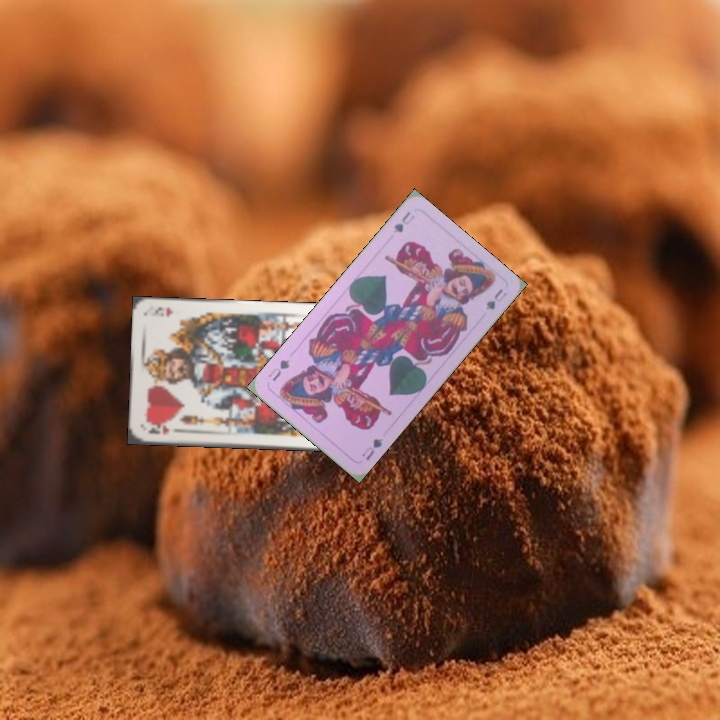GU: (357, 433, 386, 463), (389, 207, 417, 235)
HK: (144, 421, 171, 437)
